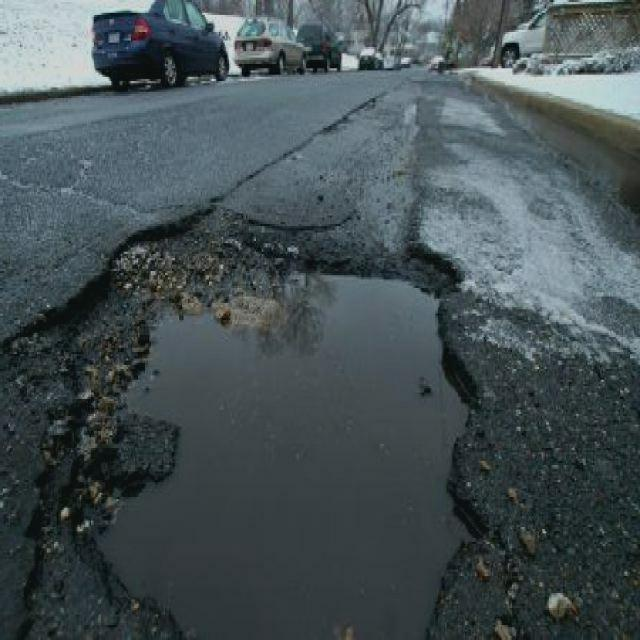Pothole: (16, 198, 494, 638)
